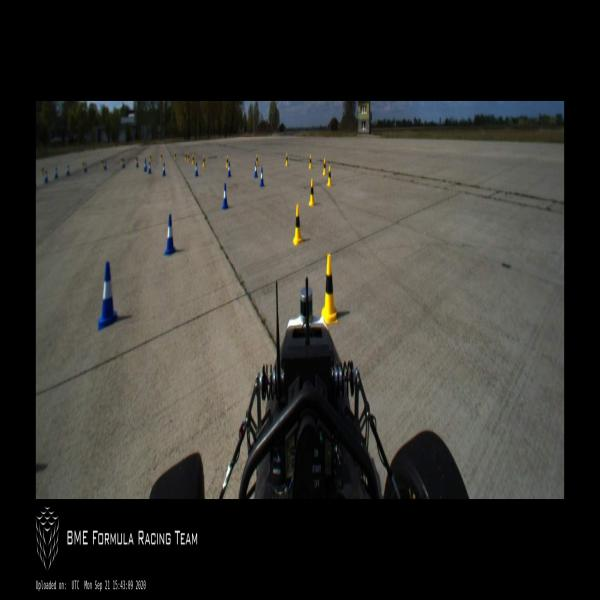blue_cone: (98, 263, 115, 331), (164, 215, 176, 255), (222, 183, 228, 209), (260, 168, 264, 187), (162, 162, 166, 176), (44, 170, 48, 183), (255, 162, 258, 178), (195, 162, 198, 177), (144, 157, 147, 172), (66, 164, 70, 175), (55, 167, 58, 179), (148, 162, 151, 173), (103, 159, 106, 170), (84, 161, 87, 172), (228, 162, 230, 178), (136, 157, 138, 169), (122, 159, 125, 167)
yellow_cone: (322, 253, 337, 325), (293, 204, 302, 245), (309, 179, 315, 206), (327, 166, 332, 186), (323, 159, 326, 176), (309, 154, 312, 169), (202, 156, 206, 167), (285, 153, 288, 167), (192, 154, 195, 165), (41, 165, 44, 175), (226, 156, 228, 169), (256, 154, 258, 166), (187, 154, 190, 162), (120, 156, 123, 164), (160, 152, 162, 161), (134, 154, 136, 163), (102, 158, 104, 167), (82, 160, 84, 169), (184, 153, 186, 161), (174, 152, 176, 160), (150, 153, 152, 161)
